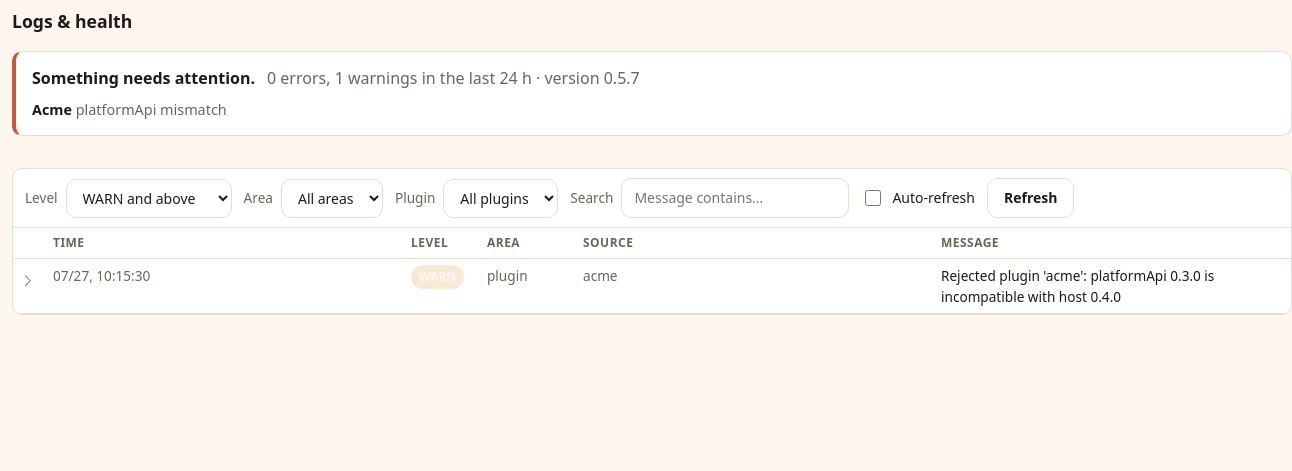
it: AdminLogs › reveals detail and context only when a row is opened
This screenshot has width=1292, height=471.
expect the text "PluginValidationException" is not shown: met
What coordinates should you click on to do the following:
click the text "Rejected plugin 'acme'"
I would click on:
 (1112, 286)
Its box is [933, 259, 1291, 313].
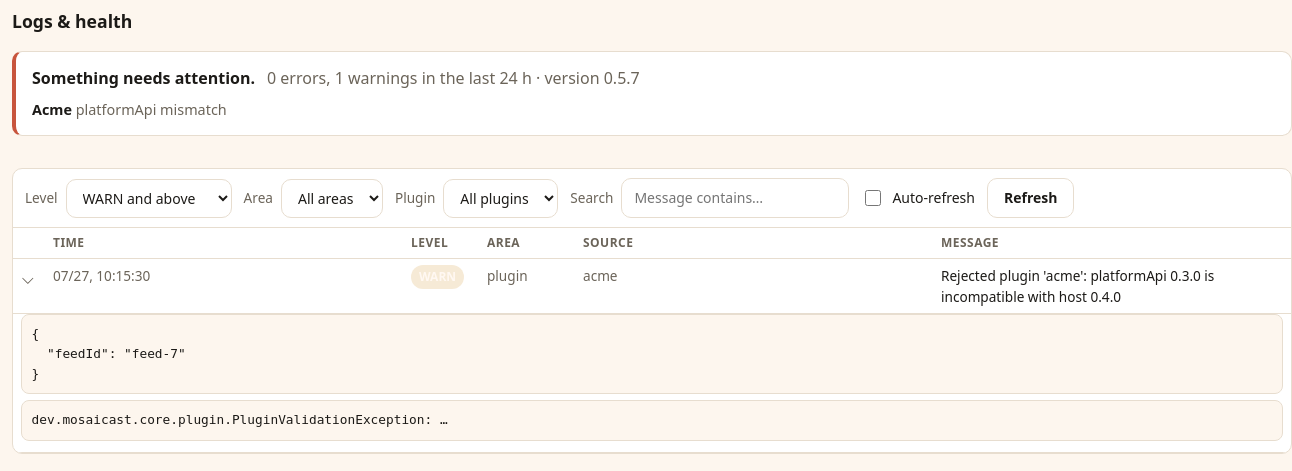
expect the text "dev.mosaicast.core.plugin.PluginValidationException: …" is shown: met, box [21, 400, 1283, 441]
expect the text "{ \"feedId\": \"feed-7\" }" is shown: met, box [21, 314, 1283, 394]
